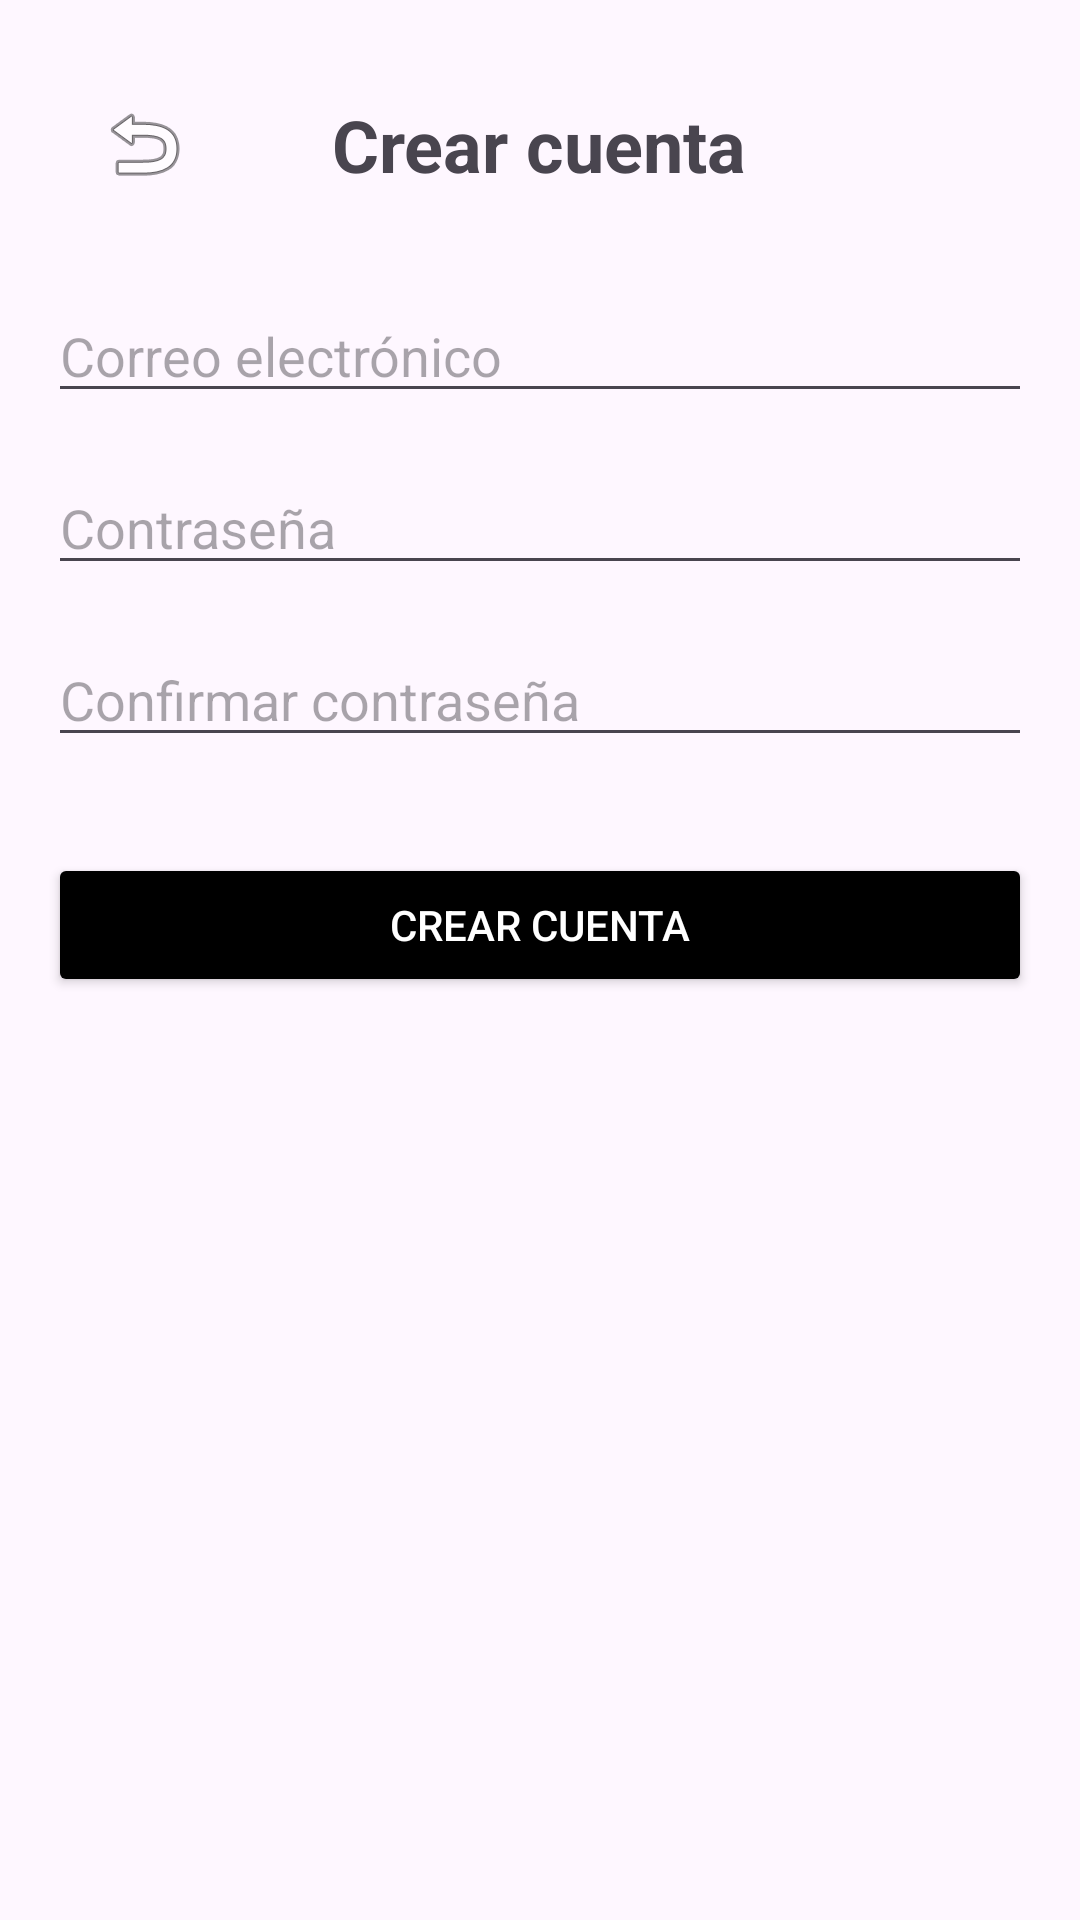

Point at icon controls on the screen. Image size 1080w x 1920h, points as point (x, y).
Back arrow: point (145, 144)
